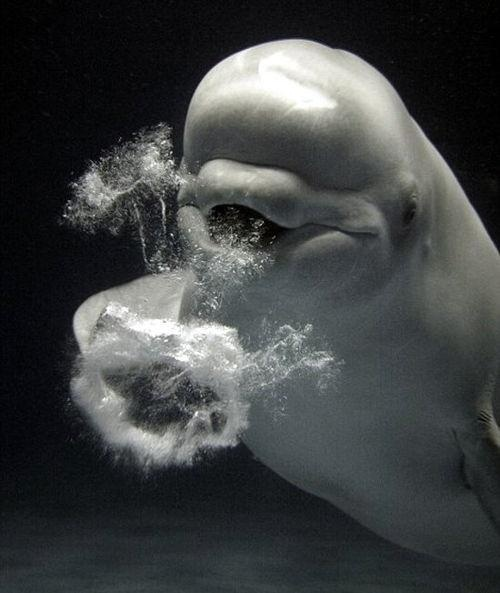fish: (62, 39, 500, 573)
